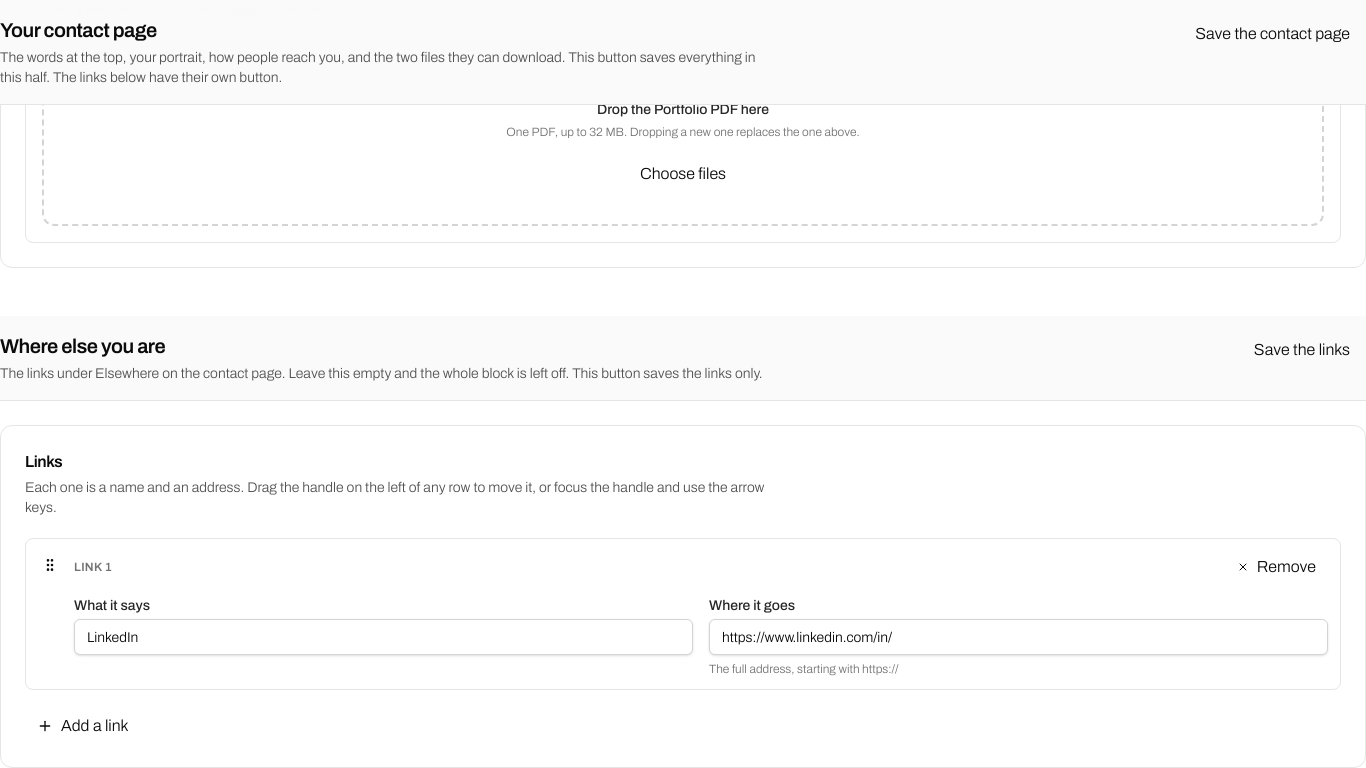
Test case: saving the links › does not publish a link with no name
The image size is (1366, 768).
(page scrolled)
Clear the field labelled "What it says" at (384,637), box x1=74 y1=619 x2=693 y2=655
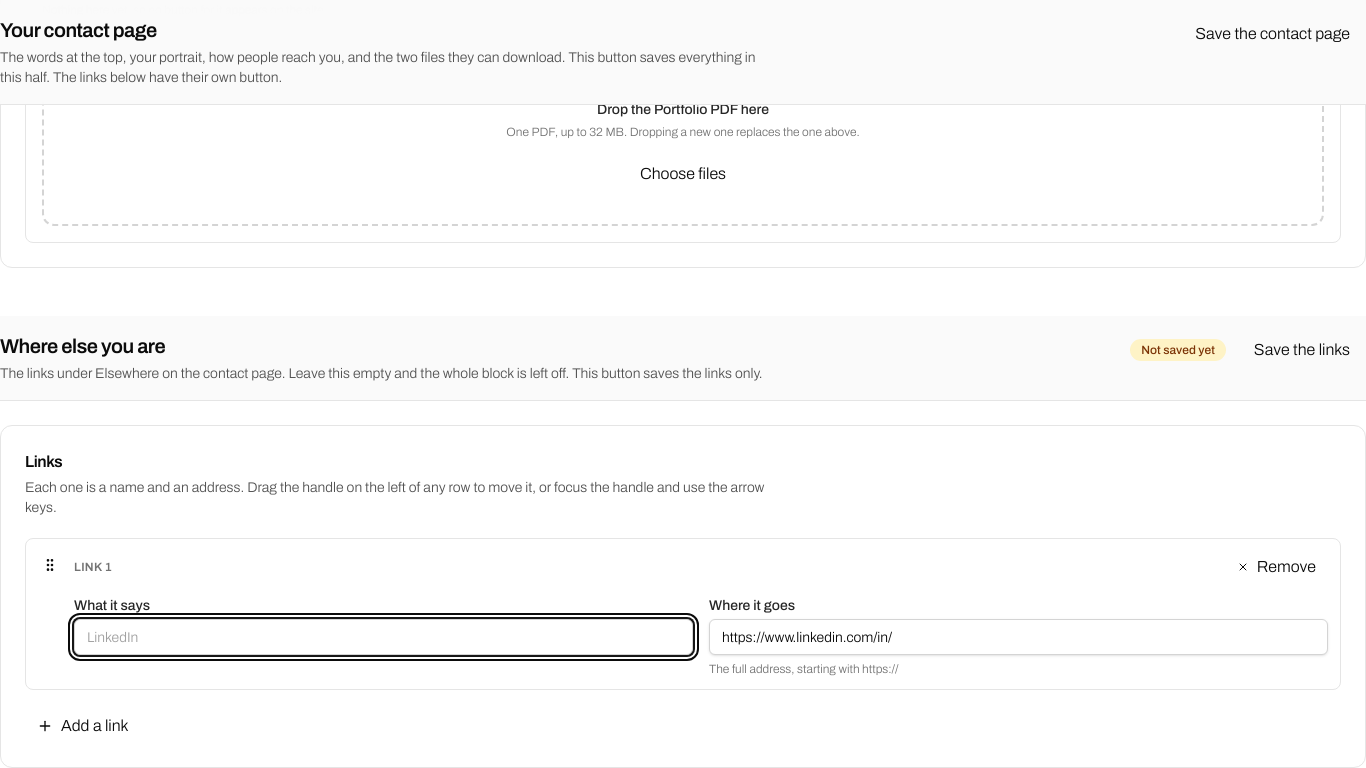
Click the button "Save the links" at (1302,350), box x1=1238 y1=332 x2=1365 y2=368
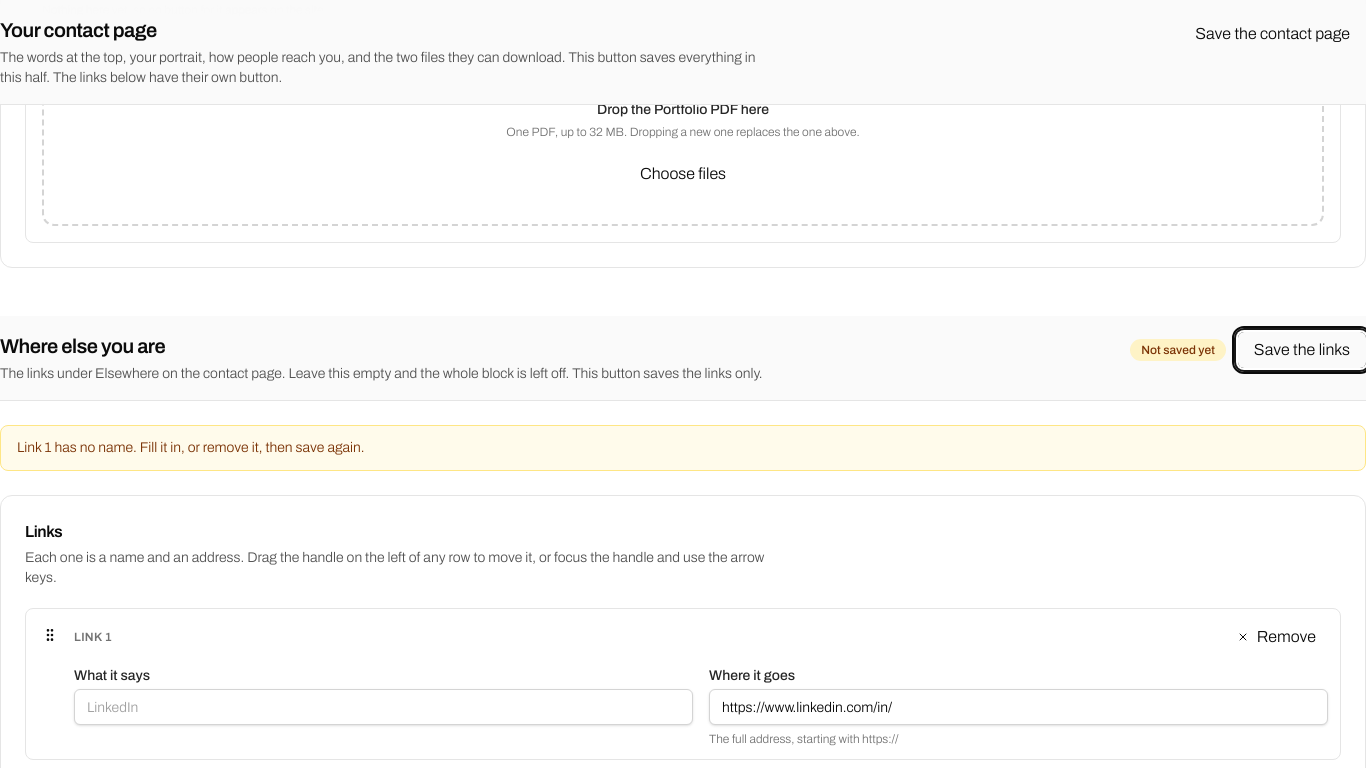
Now the text "Link 1 has no name. Fill it in, or remove it, then save again." is shown, box x1=0 y1=425 x2=1365 y2=471
